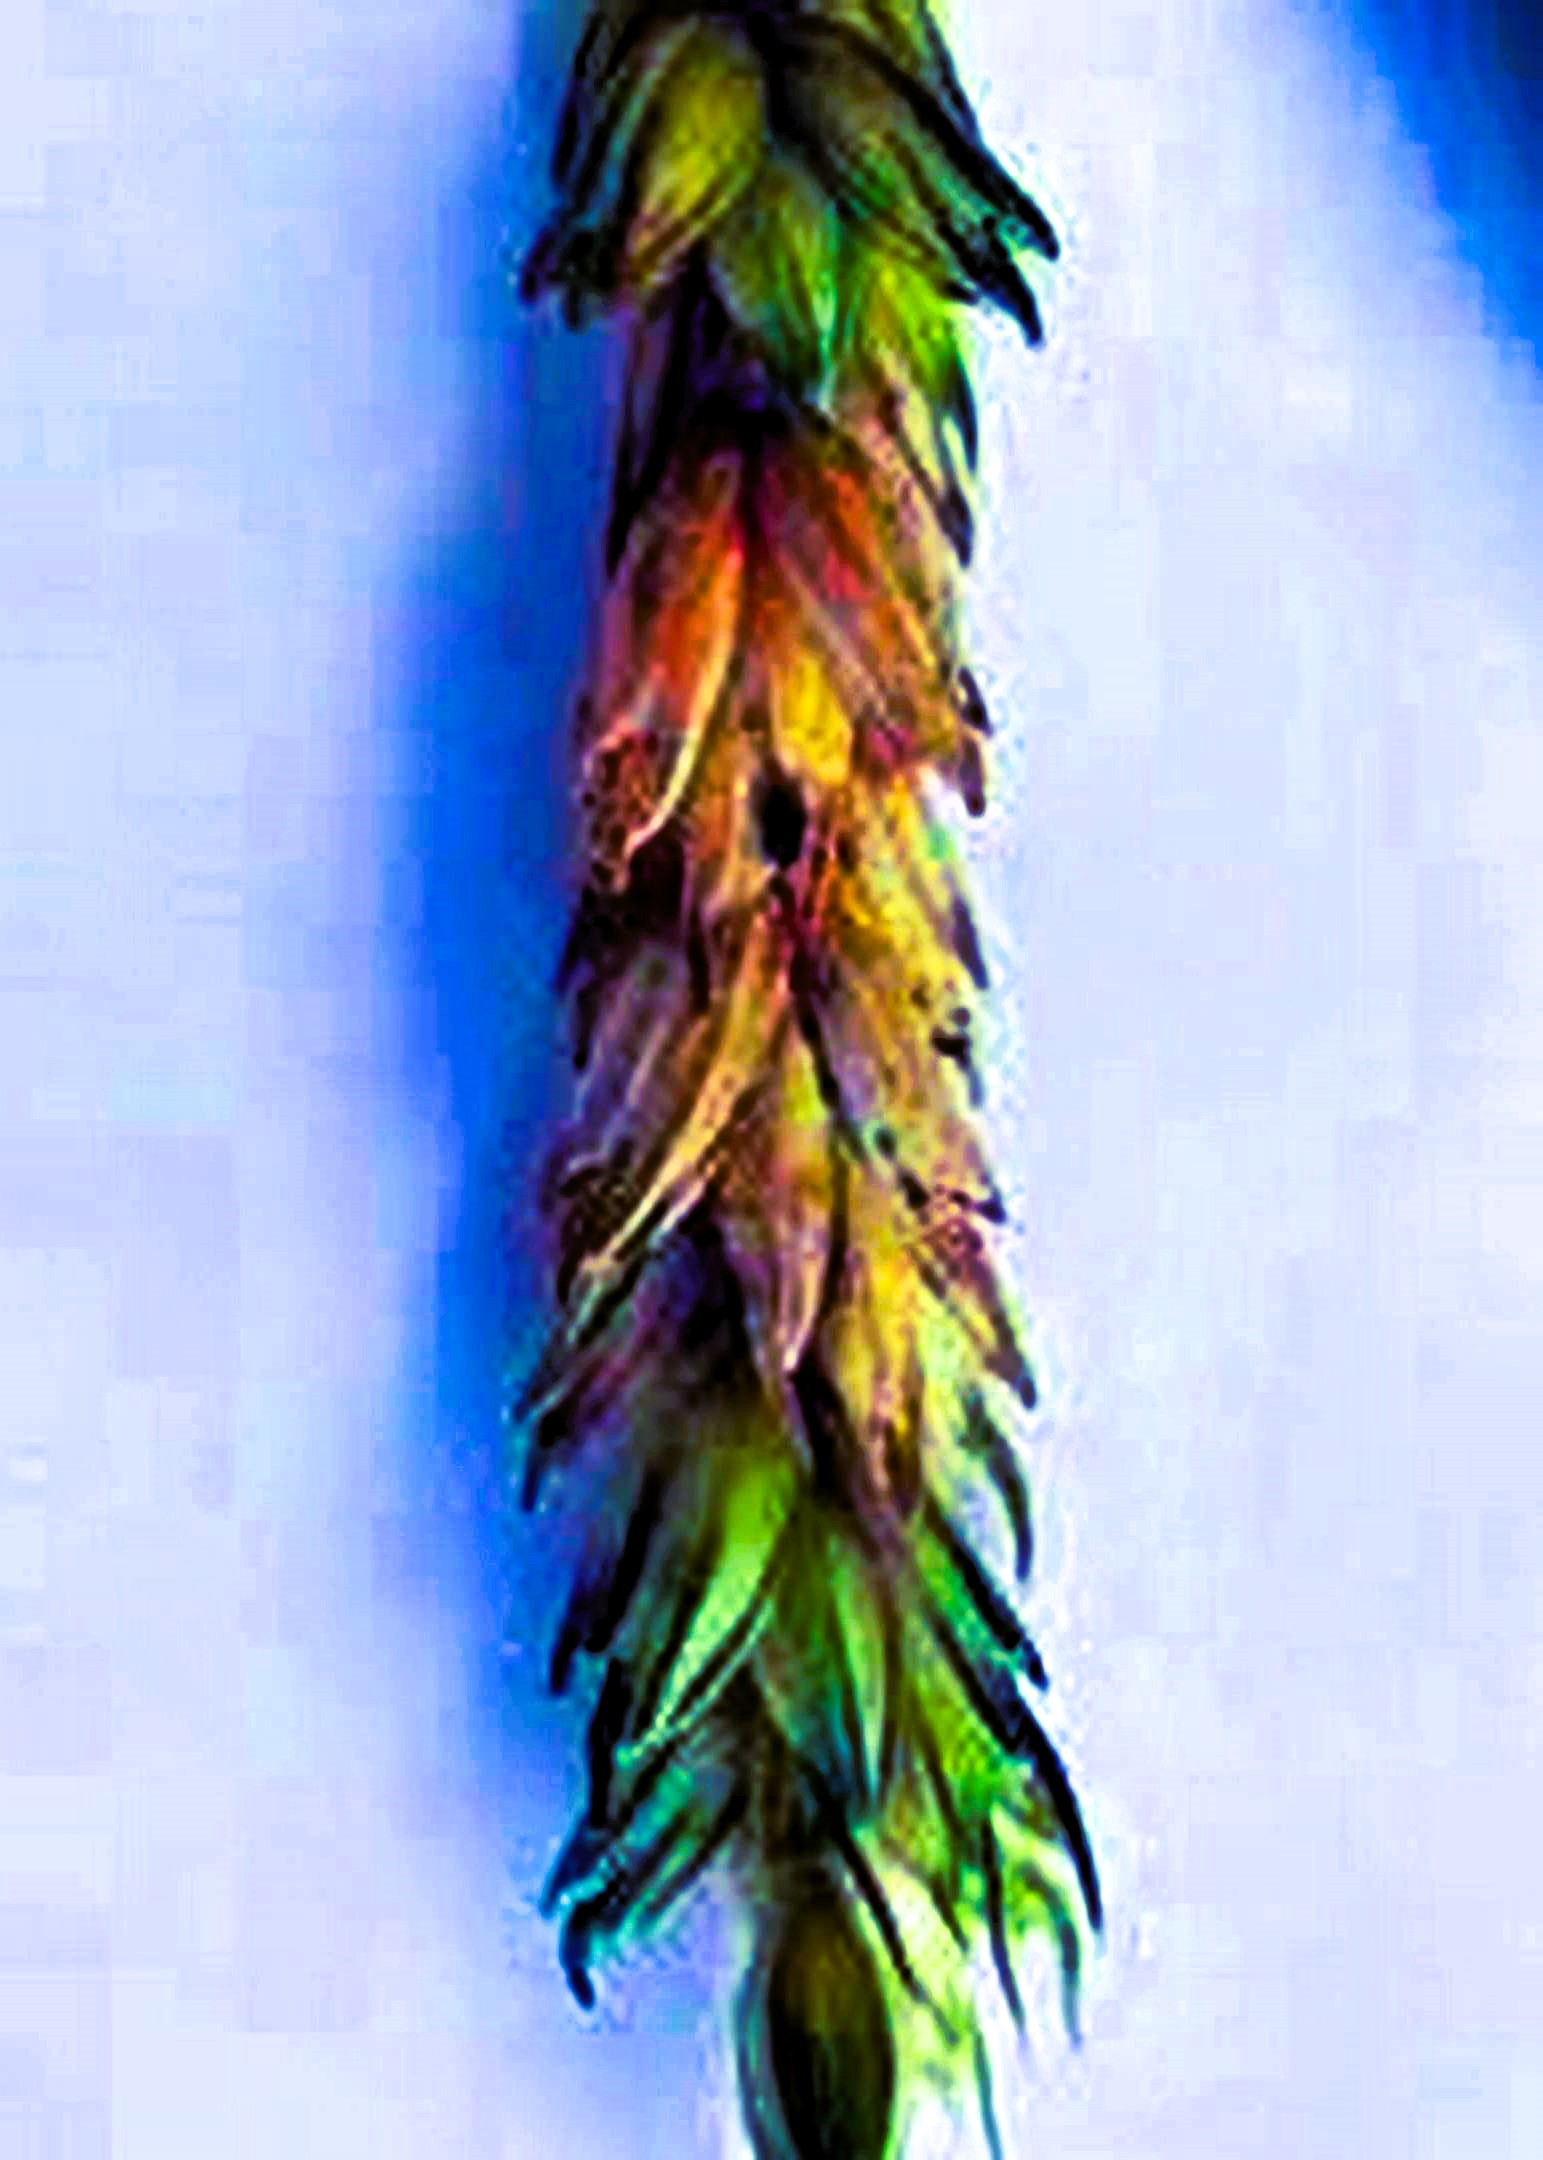Wheat scab: (514, 12, 1105, 2082)
